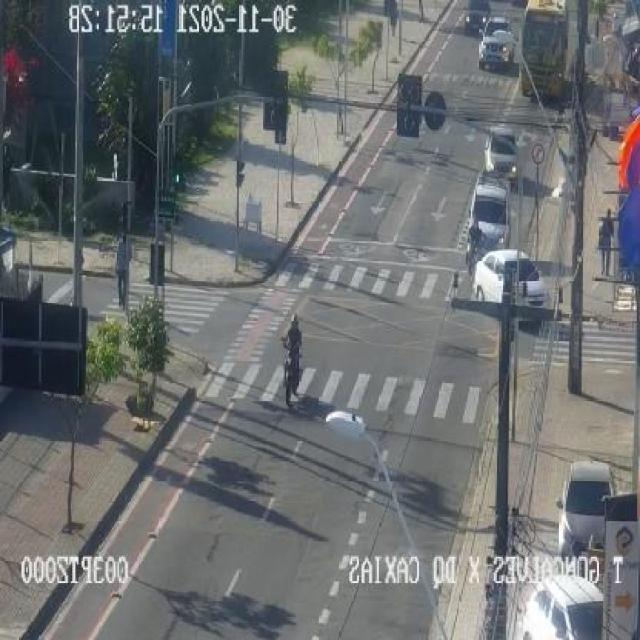Bus: (514, 0, 580, 98)
Car: (556, 462, 615, 557), (519, 575, 602, 640), (473, 249, 548, 308), (476, 114, 532, 191), (468, 178, 509, 250), (478, 32, 514, 72), (464, 1, 491, 36), (482, 16, 512, 42)
Cycle: (269, 307, 315, 425)
